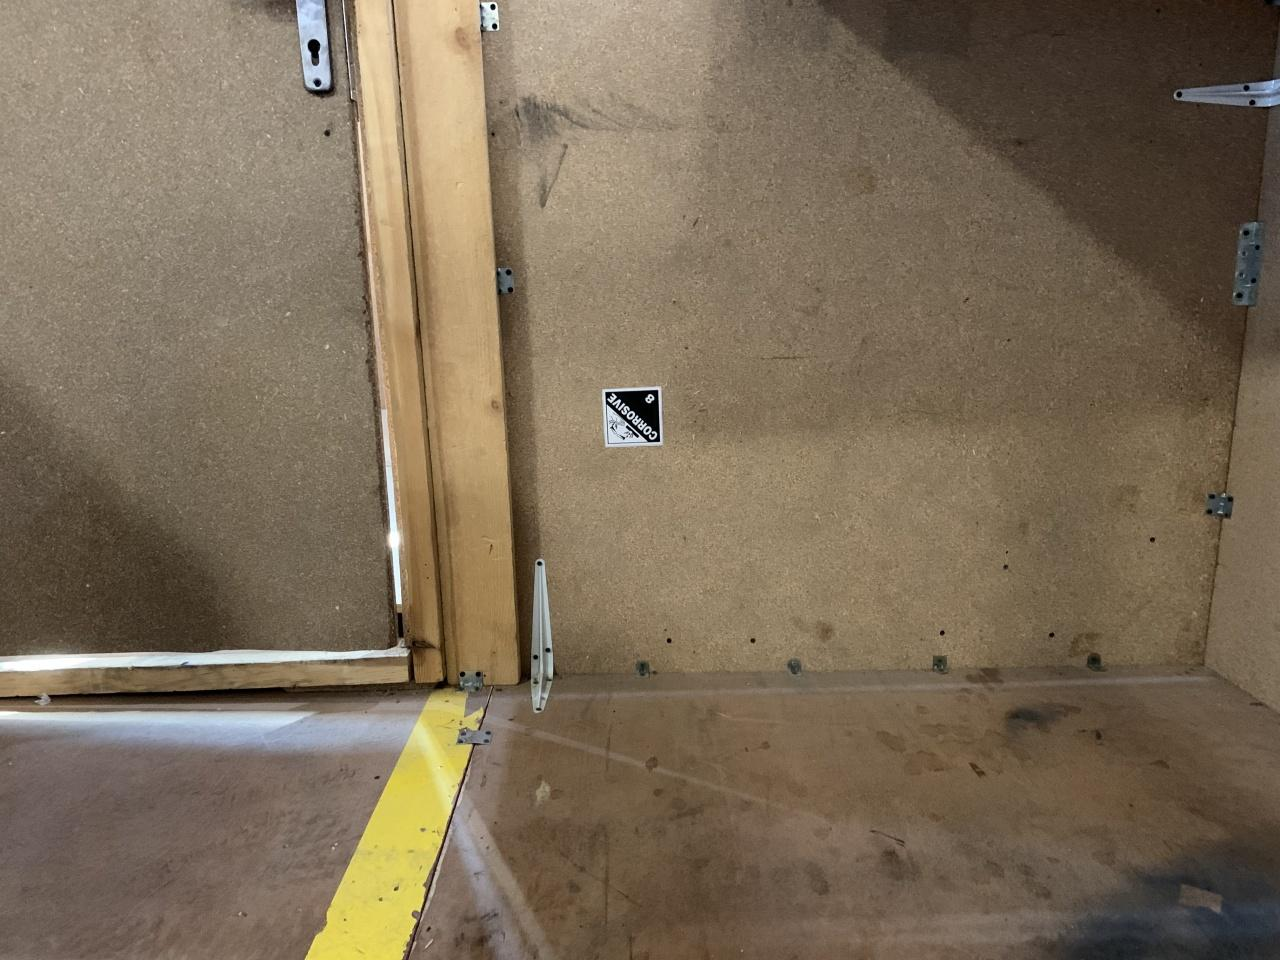corrosive: (600, 386, 664, 449)
